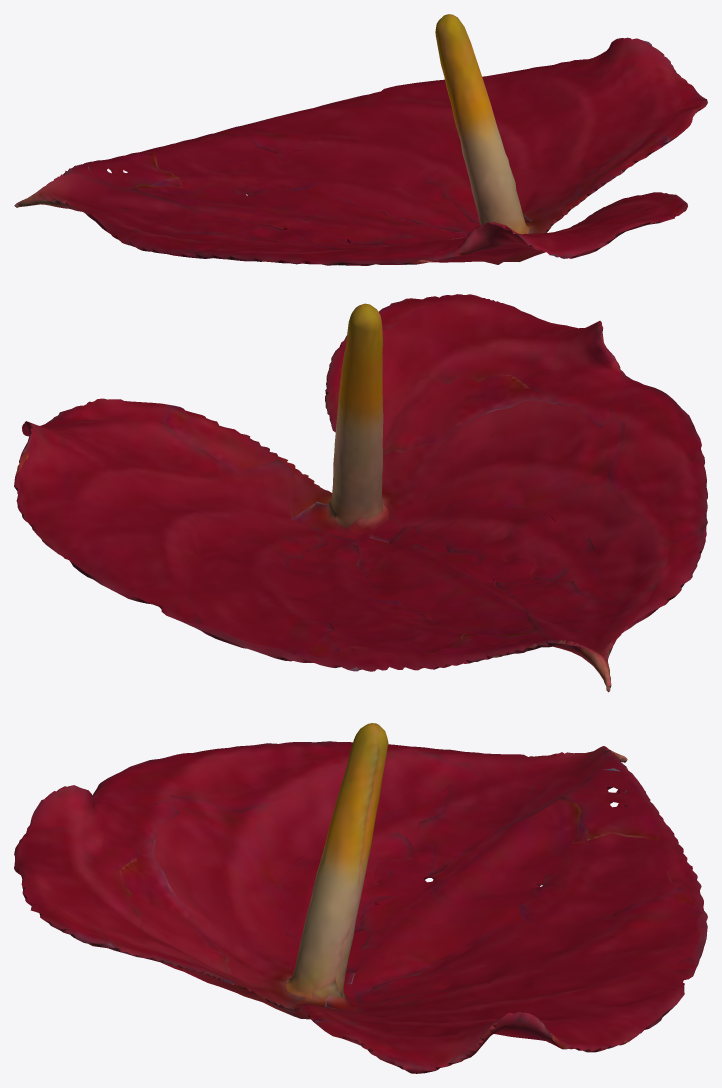
The picture shows the model from 3 angles, top to bottom: view 1: azimuth 30°, elevation 25°; view 2: azimuth 150°, elevation 25°; view 3: azimuth 270°, elevation 25°; orthographic projection. The views are drawn at different scales.
Parts seen in each view (by area): view 1: ffa20acb; view 2: ffa20acb; view 3: ffa20acb.
Boxes of the visible parts, x1,y1,x2,y2 form: ffa20acb: (14,14,707,265); ffa20acb: (14,294,707,692); ffa20acb: (14,723,707,1073).
Bounding box in the file's own units: 0.1111 × 0.0404 × 0.0941.
Materials: 1 (1 with a texture image).
